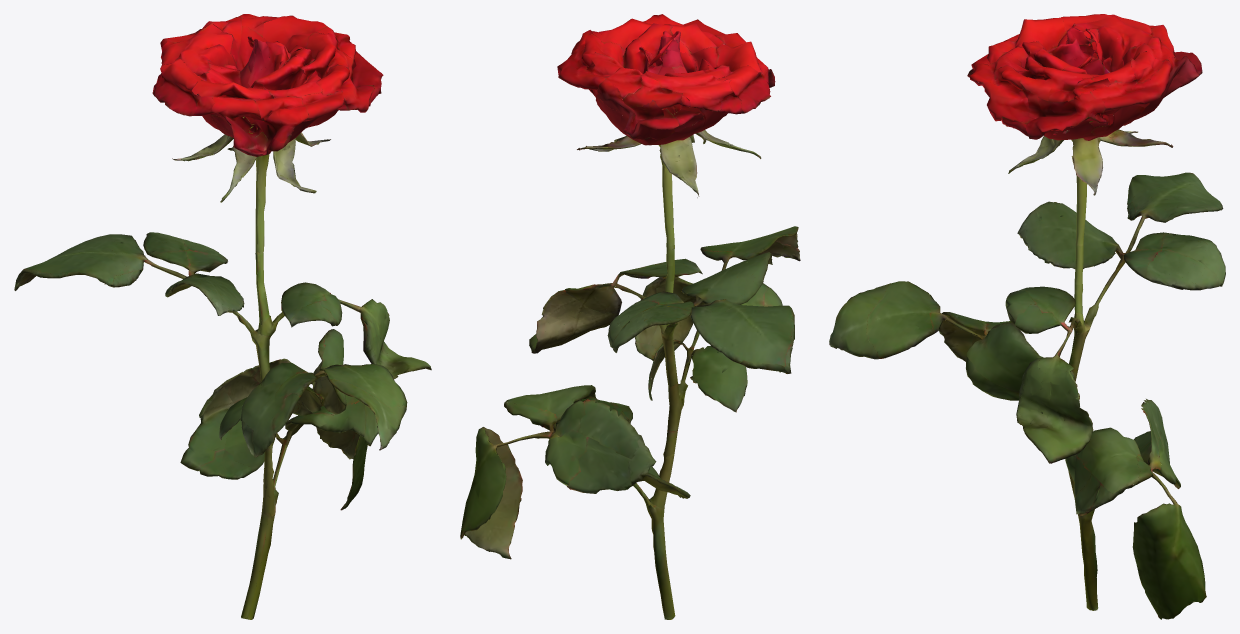
File: rose.glb
3 renders of one model, left to right at view 1: azimuth 30°, elevation 25°; view 2: azimuth 150°, elevation 25°; view 3: azimuth 270°, elevation 25°, orthographic.
Visible parts, largest first — view 1: Object_0; view 2: Object_0; view 3: Object_0.
Boxes of the visible parts, <box> form: Object_0: <box>14,14,431,619</box>; Object_0: <box>460,14,800,619</box>; Object_0: <box>829,14,1225,619</box>.
Size of the model in its own units: 0.1819 by 0.3 by 0.1853.
1 material, 1 textured.
